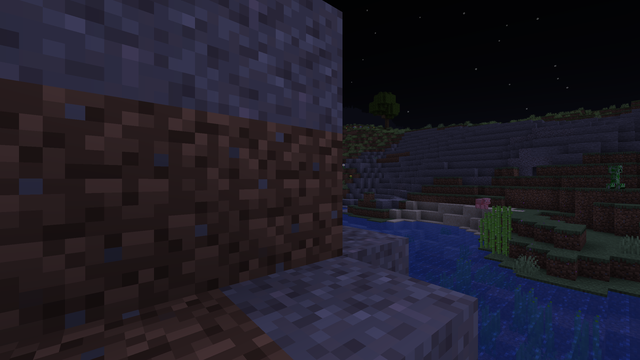cochons: (474, 198, 488, 209)
creepers: (608, 164, 621, 188)
